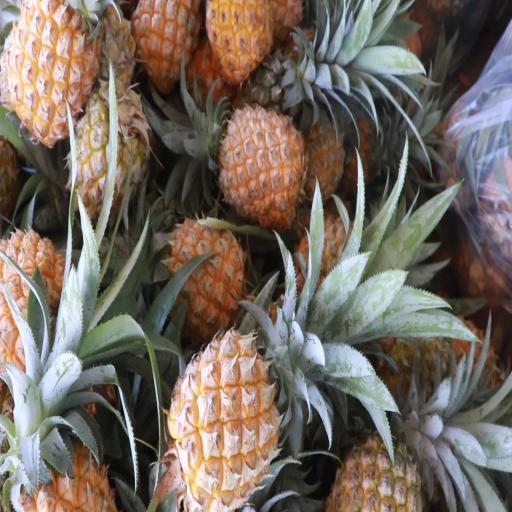------------------------------: (71, 84, 148, 222), (324, 417, 420, 512)
Pineapple - v8 v1: (165, 330, 279, 508), (0, 228, 78, 397), (6, 0, 96, 143), (6, 397, 113, 512), (218, 103, 303, 215), (160, 214, 243, 325), (126, 0, 200, 87), (204, 2, 277, 79)
